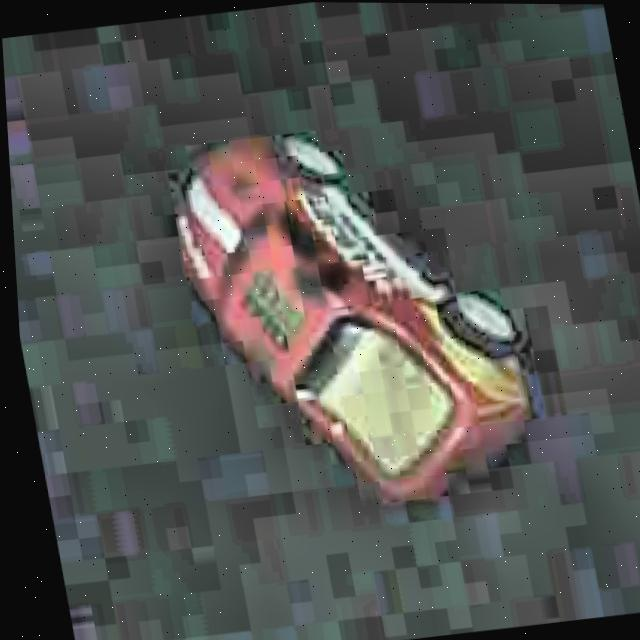car: (149, 105, 553, 525)
